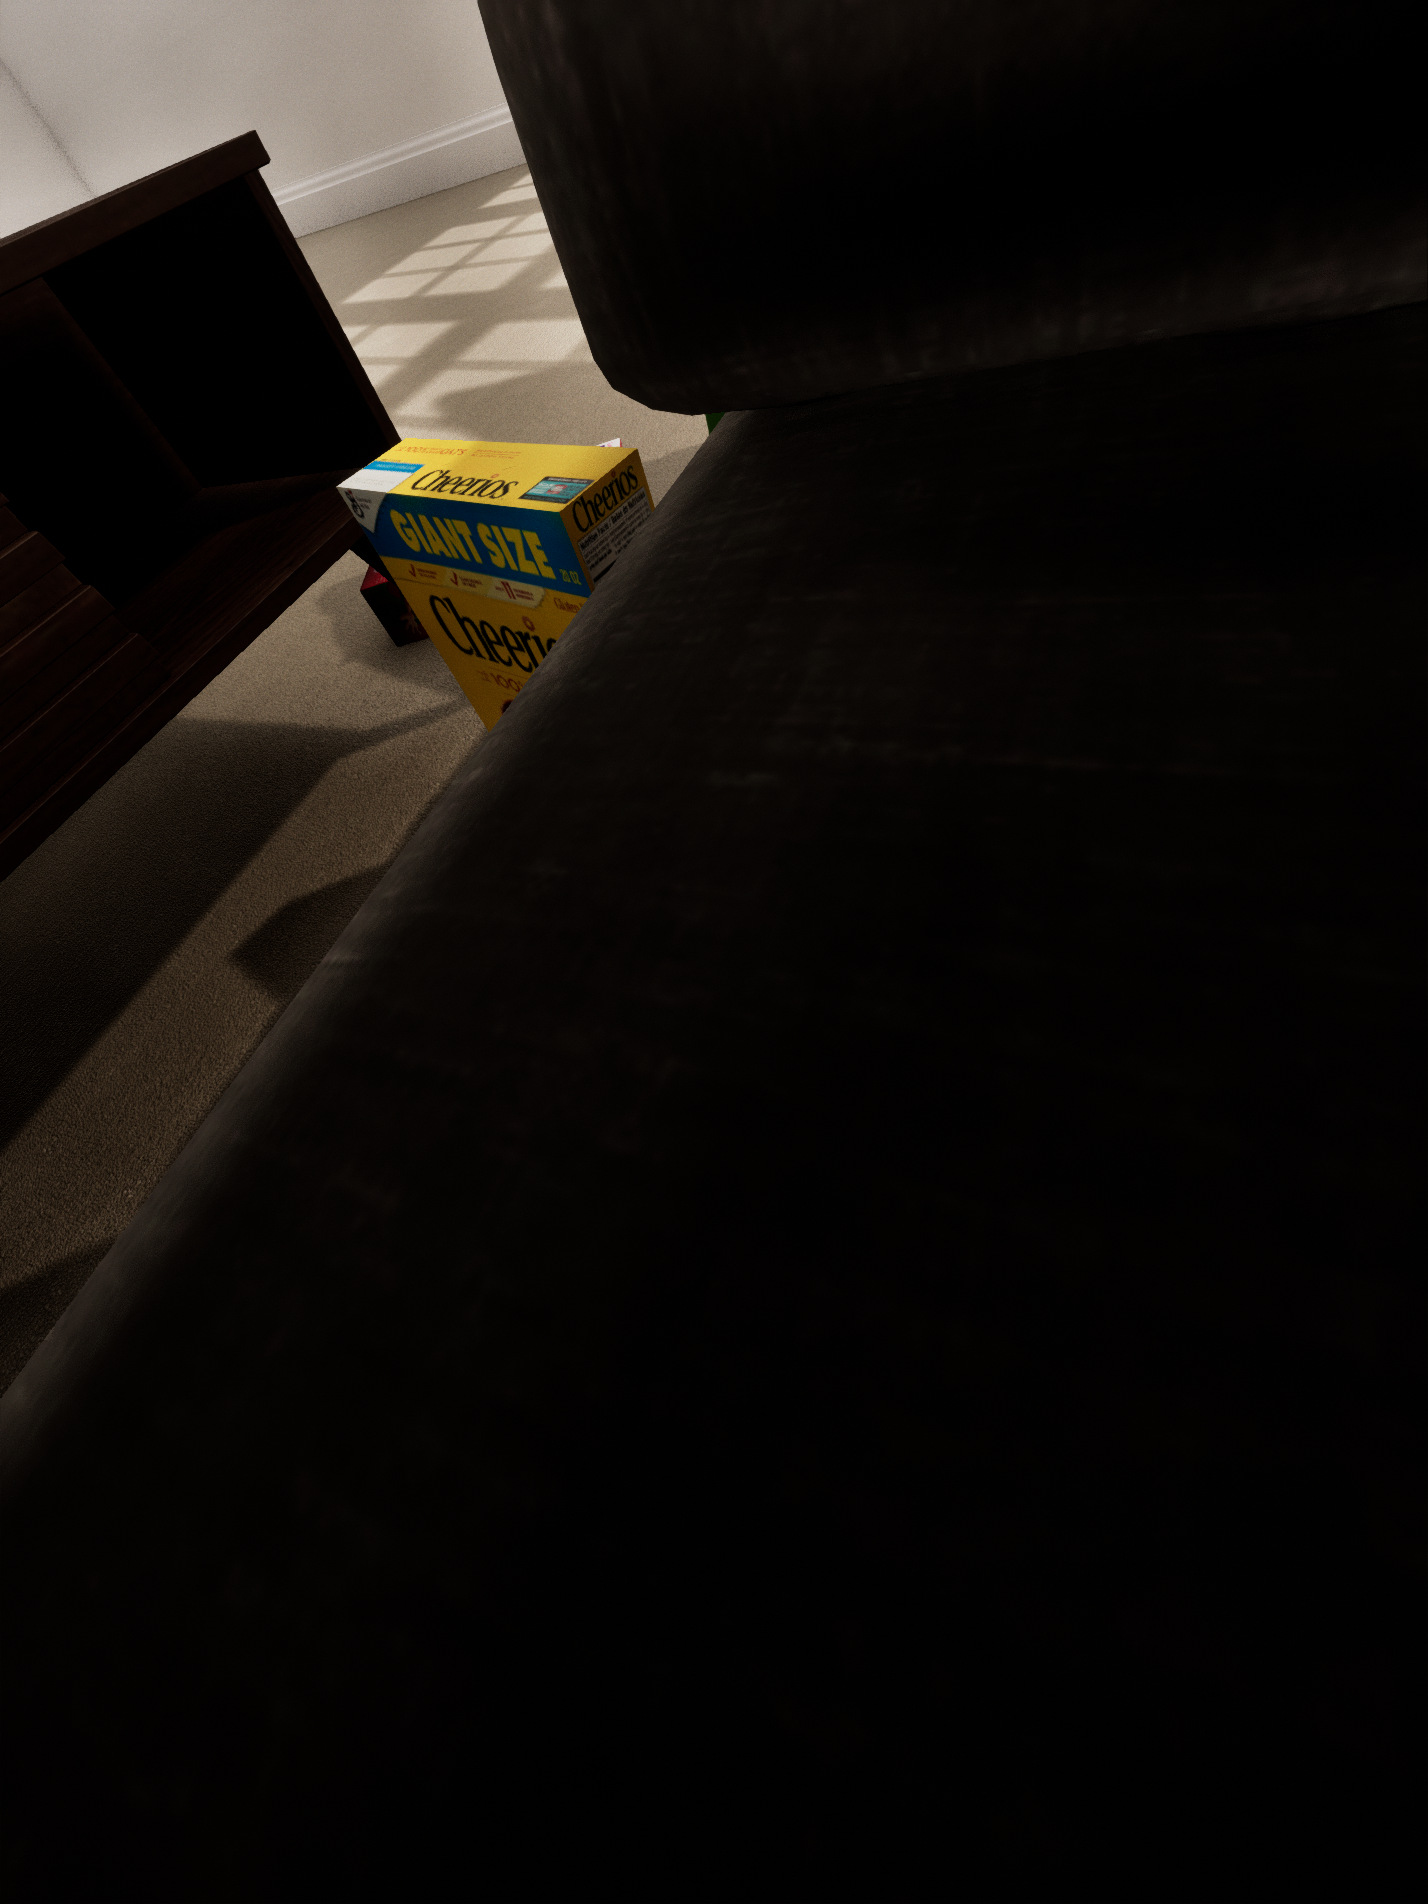cheerios: (336, 438, 655, 732)
